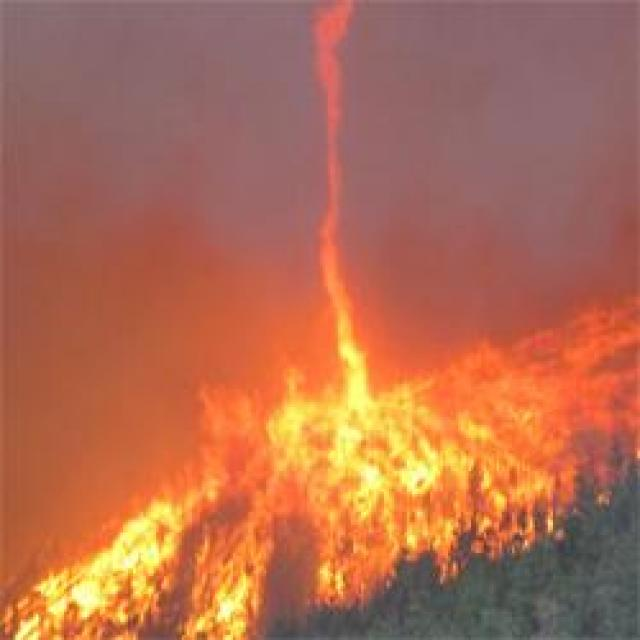fire: (300, 7, 640, 578), (24, 354, 326, 622)
